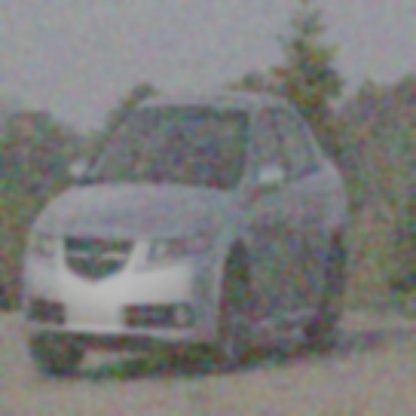Vehicle: (21, 90, 350, 381)
